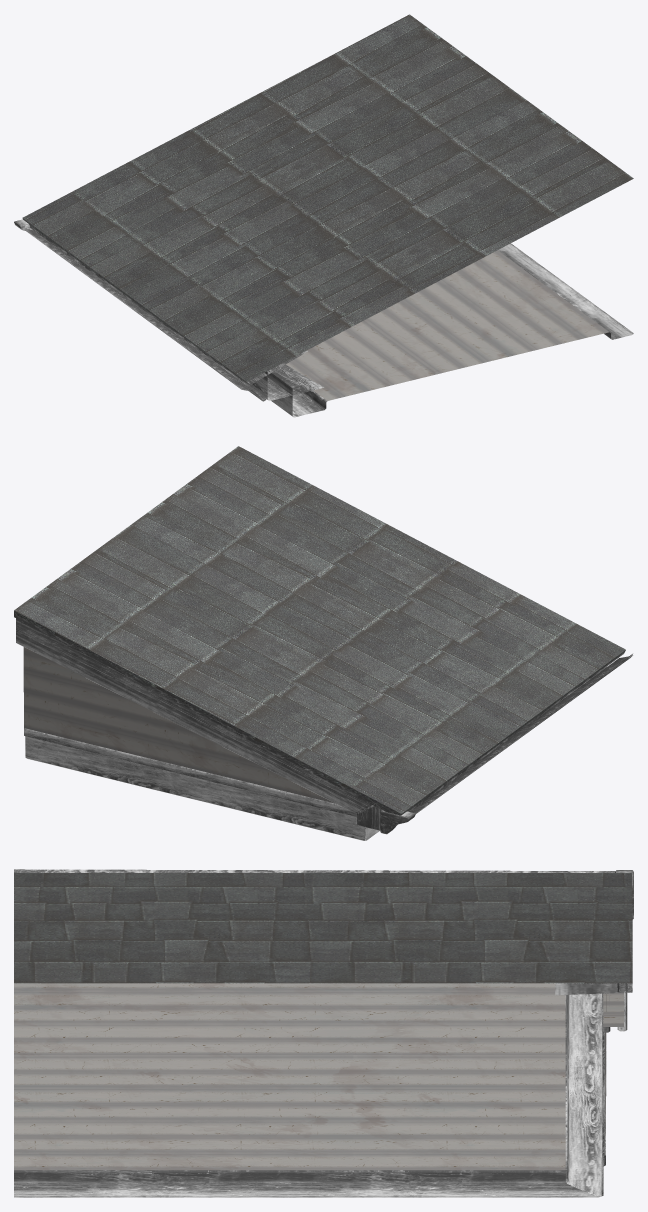
File: SM_Porch_Roof_C2.fbx
3 views of the same model, one above another, from view 1: azimuth 30°, elevation 25°; view 2: azimuth 150°, elevation 25°; view 3: azimuth 270°, elevation 25° (orthographic). The views are drawn at different scales.
Visible parts, largest first — view 1: SM_Porch_Roof_C2; view 2: SM_Porch_Roof_C2; view 3: SM_Porch_Roof_C2.
Part boxes in pixels (left/top/right/bottom): SM_Porch_Roof_C2: left=14, top=14, right=633, bottom=417; SM_Porch_Roof_C2: left=14, top=446, right=632, bottom=840; SM_Porch_Roof_C2: left=14, top=869, right=633, bottom=1197.
Size of the model in its own units: 233 by 230 by 87.94.
Materials: 3 (3 with a texture image).
